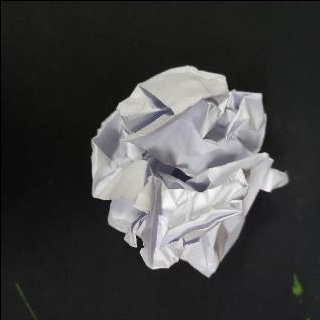8/可回收垃圾/纸: (90, 64, 289, 278)
